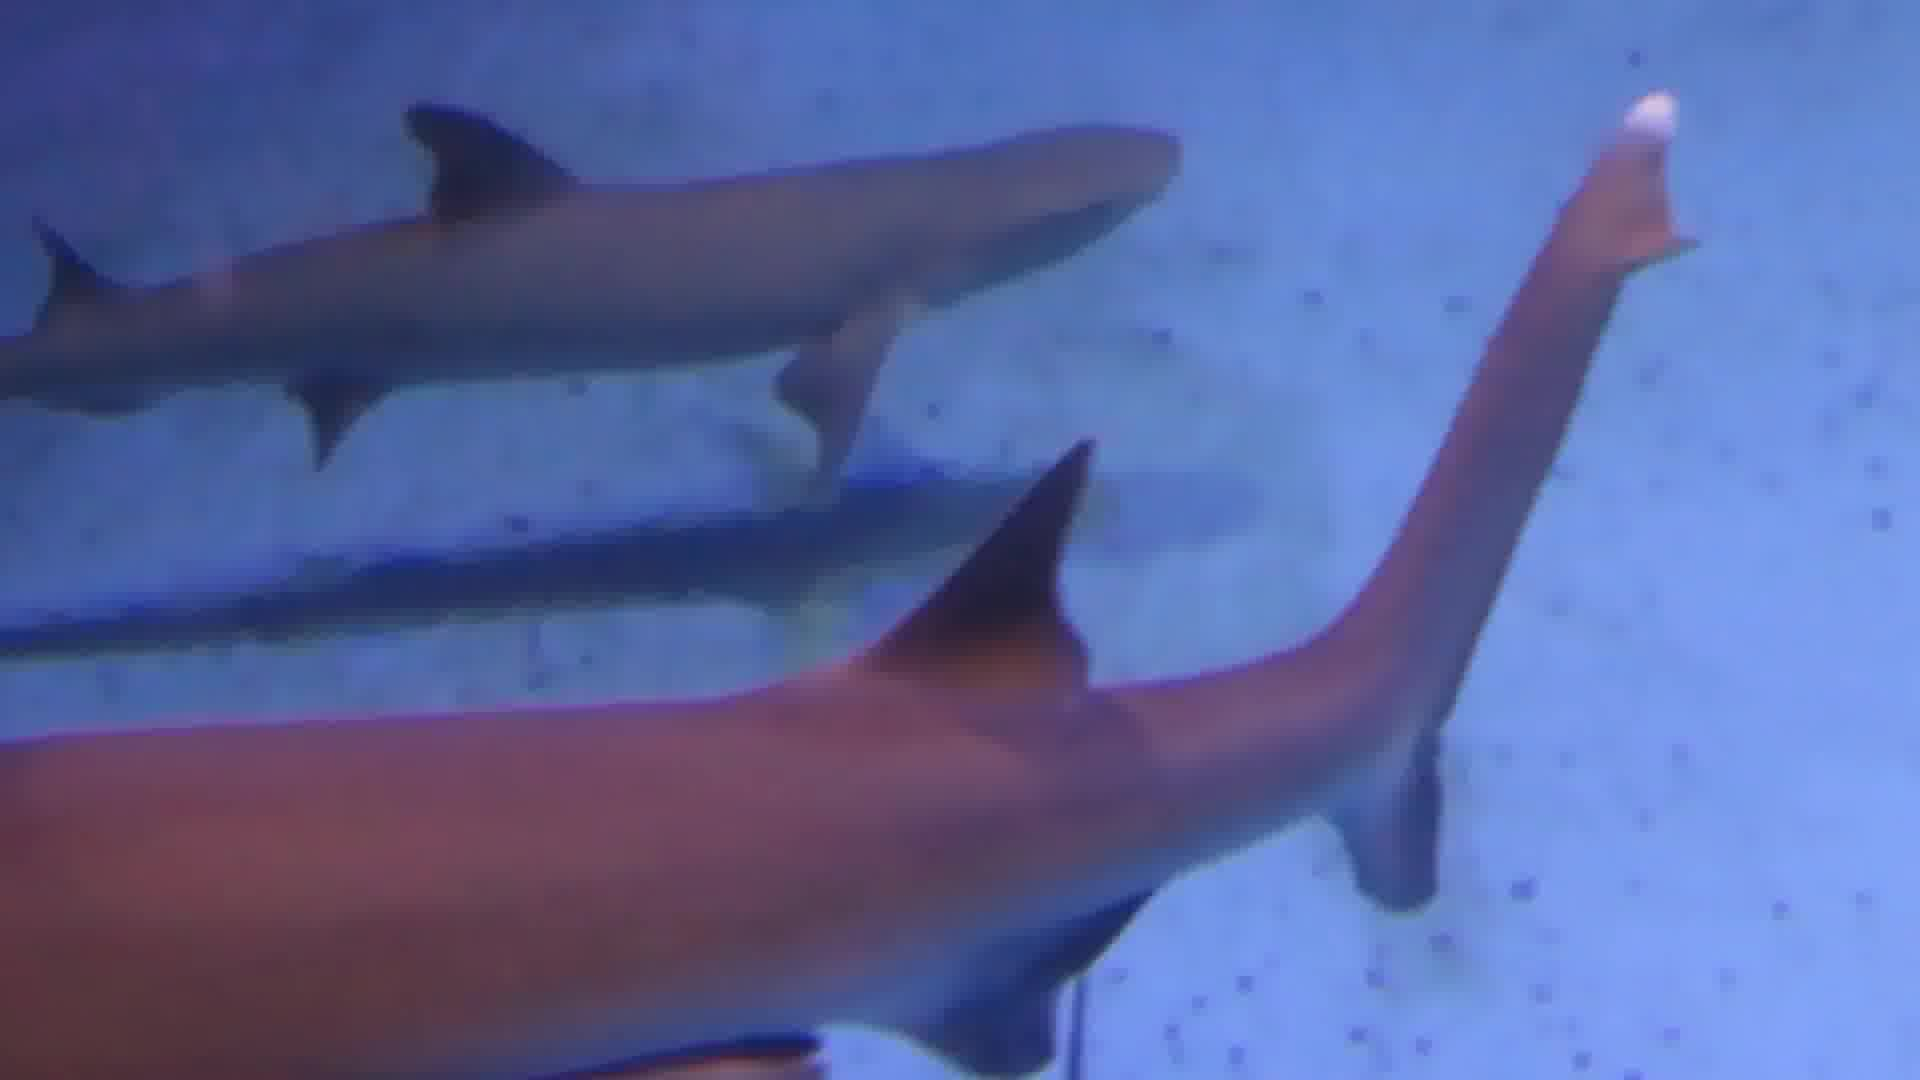Triaenodon obesus: (1, 349, 1812, 1080), (3, 3, 1221, 476)
